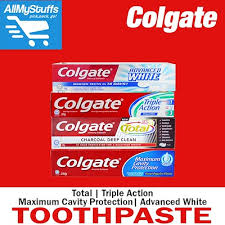gooday-medium: (51, 145, 177, 179), (48, 61, 176, 92), (50, 118, 175, 147), (48, 93, 177, 118)
